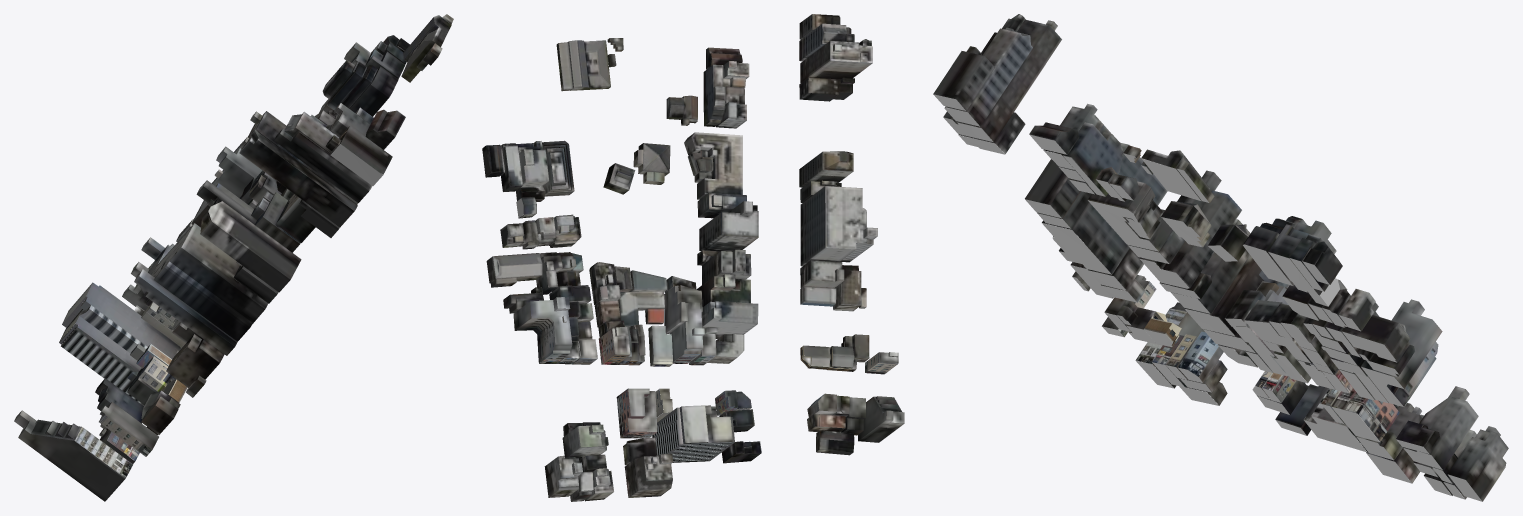
The picture shows the model from 3 angles, left to right: view 1: azimuth 30°, elevation 25°; view 2: azimuth 150°, elevation 25°; view 3: azimuth 270°, elevation 25°; orthographic projection. The views are drawn at different scales.
Bounding box in the file's own units: 149 × 136 × 163.
10 materials, 8 textured.
